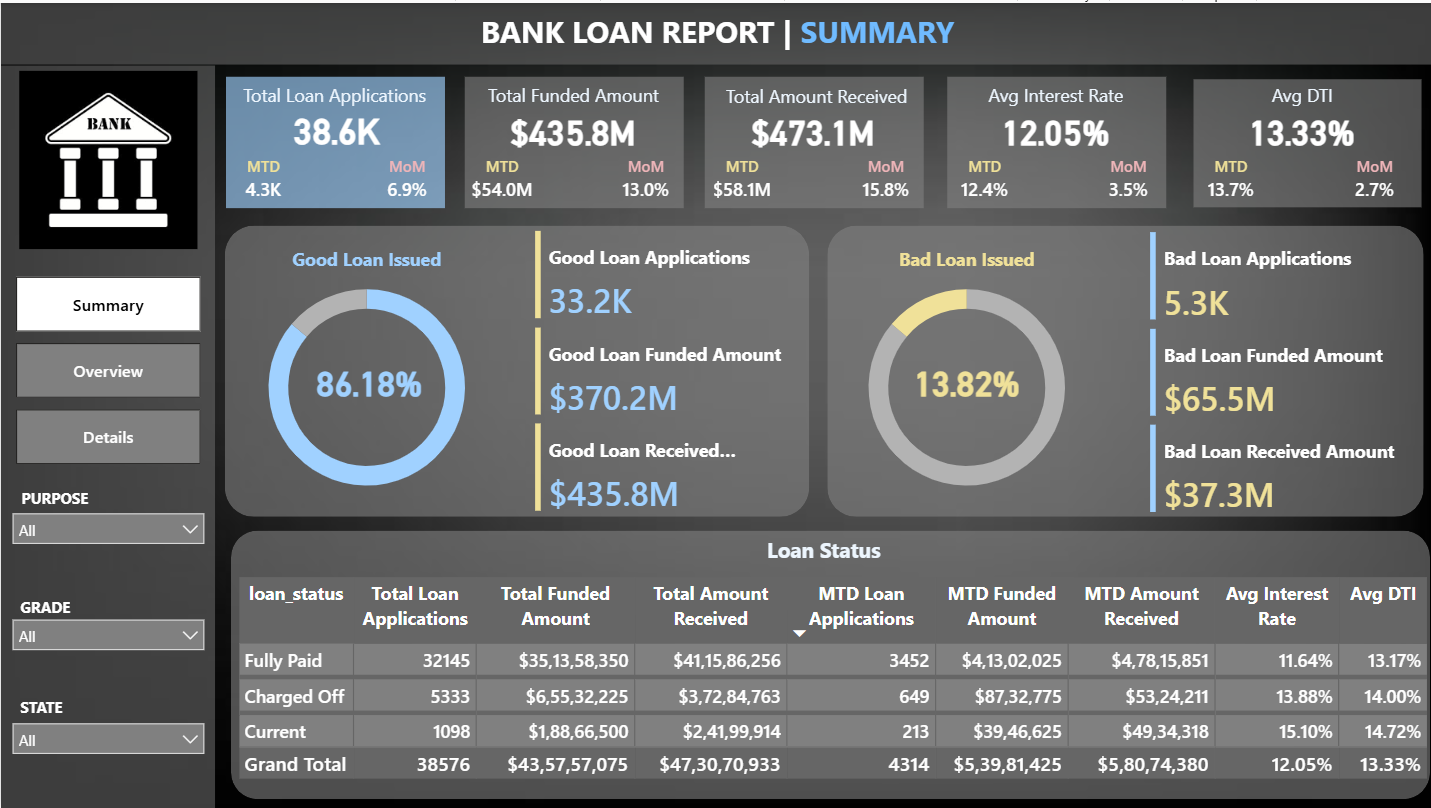

Layout of this report page (visuals, bound fields, positions):
{"tool":"powerbi","page":{"name":"Summary","canvas":[1280,720],"ordinal":0},"visuals":[{"type":"shape","box":[201,66.1,195.6,117.4],"z":0,"group":"g1"},{"type":"shape","box":[414.1,66.1,195.6,117.4],"z":0,"group":"g3"},{"type":"shape","box":[628.6,66.1,195.6,117.4],"z":0,"group":"g4"},{"type":"shape","box":[845.8,66.1,195.6,117.4],"z":0,"group":"g5"},{"type":"shape","box":[1065.2,68.7,203.7,114.7],"z":0,"group":"g6"},{"type":"shape","box":[199.7,198.3,522.1,260.4],"z":0},{"type":"shape","box":[0,0,1280.3,55],"z":1000},{"type":"card","fields":{"Values":["bank_loan_data.Total Loan Applications"]},"box":[202.6,91.6,195.6,43.2],"z":1000,"group":"g1"},{"type":"card","fields":{"Values":["bank_loan_data.Total Funded Amount"]},"box":[412.8,93.1,195.6,43.2],"z":1000,"group":"g3"},{"type":"card","fields":{"Values":["bank_loan_data.Total Amount Received"]},"box":[627.3,93.1,195.6,43.2],"z":1000,"group":"g4"},{"type":"card","fields":{"Values":["bank_loan_data.Avg Interest Rate"]},"box":[844.5,93.1,195.6,43.2],"z":1000,"group":"g5"},{"type":"card","fields":{"Values":["bank_loan_data.Avg DTI"]},"box":[1064.4,93.1,195.6,43.2],"z":1000,"group":"g6"},{"type":"textbox","box":[201,66.1,194.3,37.8],"z":2000,"group":"g1"},{"type":"textbox","box":[414.1,66.1,194.3,37.8],"z":2000,"group":"g3"},{"type":"textbox","box":[845.8,66.1,194.3,37.8],"z":2000,"group":"g5"},{"type":"textbox","box":[1065.7,66.1,194.3,37.8],"z":2000,"group":"g6"},{"type":"textbox","box":[631,67.3,195.6,35.1],"z":2000,"group":"g4"},{"type":"donutChart","fields":{"Category":["bank_loan_data.Good vs Bad Loan"],"Y":["bank_loan_data.Total Loan Applications"]},"box":[202.4,229.3,249.6,229.3],"z":2000},{"type":"card","title":"MTD","fields":{"Values":["bank_loan_data.MTD Loan Applications"]},"box":[202.3,136.3,64.8,47.2],"z":3000,"group":"g1"},{"type":"card","title":"MTD","fields":{"Values":["bank_loan_data.MTD Funded Amount"]},"box":[415.5,136.3,64.8,47.2],"z":3000,"group":"g3"},{"type":"card","title":"MTD","fields":{"Values":["bank_loan_data.MTD Amount Received"]},"box":[630,136.3,64.8,47.2],"z":3000,"group":"g4"},{"type":"card","title":"MTD","fields":{"Values":["bank_loan_data.MTD Avg Interest Rate"]},"box":[847.2,136.3,64.8,47.2],"z":3000,"group":"g5"},{"type":"card","title":"MTD","fields":{"Values":["bank_loan_data.MTD Avg DTI"]},"box":[1067.1,136.3,64.8,47.2],"z":3000,"group":"g6"},{"type":"textbox","box":[229.3,211.8,195.6,35.1],"z":3000},{"type":"shape","box":[0,55.3,191.6,665.1],"z":4000},{"type":"card","title":"MoM","fields":{"Values":["bank_loan_data.MoM Loan Applications"]},"box":[330.5,136.3,64.8,47.2],"z":4000,"group":"g1"},{"type":"card","title":"MoM","fields":{"Values":["bank_loan_data.MoM Funded Amount"]},"box":[543.7,136.3,64.8,47.2],"z":4000,"group":"g3"},{"type":"card","title":"MoM","fields":{"Values":["bank_loan_data.MoM Amount Received"]},"box":[758.2,136.3,64.8,47.2],"z":4000,"group":"g4"},{"type":"card","title":"MoM","fields":{"Values":["bank_loan_data.MoM Avg Interest Rate"]},"box":[975.4,136.3,64.8,47.2],"z":4000,"group":"g5"},{"type":"card","title":"MoM","fields":{"Values":["bank_loan_data.MoM Avg DTI"]},"box":[1195.3,136.3,64.8,47.2],"z":4000,"group":"g6"},{"type":"group","id":"g1","title":"Group 2","box":[201,66.1,197.2,117.4],"z":4005,"group":"g2"},{"type":"card","fields":{"Values":["bank_loan_data.Good Loan %"]},"box":[263.1,317,130.9,43.2],"z":5000},{"type":"textbox","box":[385.8,2.7,507.3,47.2],"z":6000},{"type":"group","id":"g2","title":"Group 1","box":[201,66.1,197,117.4],"z":7000},{"type":"group","id":"g3","title":"Group 2","box":[412.8,66.1,197,117.4],"z":8000},{"type":"group","id":"g4","title":"Group 2","box":[627.3,66.1,199.7,117.4],"z":9000},{"type":"group","id":"g5","title":"Group 2","box":[844.5,66.1,197,117.4],"z":10000},{"type":"group","id":"g6","title":"Group 2","box":[1064.4,66.1,204.5,117.4],"z":11000},{"type":"shape","box":[737.9,198.3,532.9,260.4],"z":12000},{"type":"cardVisual","fields":{"Data":["bank_loan_data.Good Loan Applications","bank_loan_data.Good Loan Funded Amount","bank_loan_data.Good Loan Received Amount"]},"box":[472.2,198.3,249.6,260.4],"z":13000},{"type":"donutChart","fields":{"Category":["bank_loan_data.Good vs Bad Loan"],"Y":["bank_loan_data.Total Loan Applications"]},"box":[737.9,229.3,249.6,229.3],"z":14000},{"type":"card","fields":{"Values":["bank_loan_data.Bad Loan %"]},"box":[797.3,317,130.9,43.2],"z":15000},{"type":"cardVisual","fields":{"Data":["bank_loan_data.Bad Loan Applications","bank_loan_data.Bad Loan Funded Amount","bank_loan_data.Bad Loan Received Amount"]},"box":[1021.3,199.7,249.6,260.4],"z":16000},{"type":"textbox","box":[764.9,211.8,195.6,35.1],"z":17000},{"type":"shape","box":[205.1,470.8,1071.2,240.1],"z":18000},{"type":"tableEx","fields":{"Values":["bank_loan_data.loan_status","bank_loan_data.Total Loan Applications","bank_loan_data.Total Funded Amount","bank_loan_data.Total Amount Received","bank_loan_data.MTD Loan Applications","bank_loan_data.MTD Funded Amount","bank_loan_data.MTD Amount Received","bank_loan_data.Avg Interest Rate","bank_loan_data.Avg DTI"]},"box":[206.4,508.6,1073.9,211.8],"z":19000},{"type":"textbox","box":[643.5,470.8,183.5,37.8],"z":20000},{"type":"slicer","fields":{"Values":["bank_loan_data.address_state"]},"box":[0,632.7,191.6,49.9],"z":21000},{"type":"textbox","box":[12.1,615.2,124.1,33.7],"z":22000},{"type":"slicer","fields":{"Values":["bank_loan_data.grade"]},"box":[0,541,191.6,49.9],"z":23000},{"type":"textbox","box":[13.5,429,122.8,29.7],"z":24000},{"type":"textbox","box":[12.1,526.1,124.1,29.7],"z":25000},{"type":"slicer","fields":{"Values":["bank_loan_data.Good vs Bad Loan"]},"box":[0,445.2,191.6,49.9],"z":26000},{"type":"pageNavigator","box":[13.5,244.2,165.9,170],"z":26001},{"type":"image","box":[6.7,55.3,178.1,168.6],"z":26002}]}

Visuals, with their boxes in screenshot pixels (x1, y1, x2, y2), scaled from the page's 1280x720 canvas onto the 1431x808 screenshot:
shape: (x1=225, y1=74, x2=443, y2=206)
shape: (x1=463, y1=74, x2=682, y2=206)
shape: (x1=703, y1=74, x2=921, y2=206)
shape: (x1=946, y1=74, x2=1164, y2=206)
shape: (x1=1191, y1=77, x2=1419, y2=206)
shape: (x1=223, y1=223, x2=807, y2=515)
shape: (x1=0, y1=0, x2=1430, y2=62)
card - bank_loan_data.Total Loan Applications: (x1=227, y1=103, x2=445, y2=151)
card - bank_loan_data.Total Funded Amount: (x1=461, y1=104, x2=680, y2=153)
card - bank_loan_data.Total Amount Received: (x1=701, y1=104, x2=920, y2=153)
card - bank_loan_data.Avg Interest Rate: (x1=944, y1=104, x2=1163, y2=153)
card - bank_loan_data.Avg DTI: (x1=1190, y1=104, x2=1409, y2=153)
textbox: (x1=225, y1=74, x2=442, y2=117)
textbox: (x1=463, y1=74, x2=680, y2=117)
textbox: (x1=946, y1=74, x2=1163, y2=117)
textbox: (x1=1191, y1=74, x2=1409, y2=117)
textbox: (x1=705, y1=76, x2=924, y2=115)
donutChart - bank_loan_data.Good vs Bad Loan x bank_loan_data.Total Loan Applications: (x1=226, y1=257, x2=505, y2=515)
"MTD" card: (x1=226, y1=153, x2=299, y2=206)
"MTD" card: (x1=465, y1=153, x2=537, y2=206)
"MTD" card: (x1=704, y1=153, x2=777, y2=206)
"MTD" card: (x1=947, y1=153, x2=1020, y2=206)
"MTD" card: (x1=1193, y1=153, x2=1265, y2=206)
textbox: (x1=256, y1=238, x2=475, y2=277)
shape: (x1=0, y1=62, x2=214, y2=807)
"MoM" card: (x1=369, y1=153, x2=442, y2=206)
"MoM" card: (x1=608, y1=153, x2=680, y2=206)
"MoM" card: (x1=848, y1=153, x2=920, y2=206)
"MoM" card: (x1=1090, y1=153, x2=1163, y2=206)
"MoM" card: (x1=1336, y1=153, x2=1409, y2=206)
"Group 2" group: (x1=225, y1=74, x2=445, y2=206)
card - bank_loan_data.Good Loan %: (x1=294, y1=356, x2=440, y2=404)
textbox: (x1=431, y1=3, x2=998, y2=56)
"Group 1" group: (x1=225, y1=74, x2=445, y2=206)
"Group 2" group: (x1=461, y1=74, x2=682, y2=206)
"Group 2" group: (x1=701, y1=74, x2=925, y2=206)
"Group 2" group: (x1=944, y1=74, x2=1164, y2=206)
"Group 2" group: (x1=1190, y1=74, x2=1419, y2=206)
shape: (x1=825, y1=223, x2=1421, y2=515)
cardVisual - bank_loan_data.Good Loan Applications x bank_loan_data.Good Loan Funded Amount: (x1=528, y1=223, x2=807, y2=515)
donutChart - bank_loan_data.Good vs Bad Loan x bank_loan_data.Total Loan Applications: (x1=825, y1=257, x2=1104, y2=515)
card - bank_loan_data.Bad Loan %: (x1=891, y1=356, x2=1038, y2=404)
cardVisual - bank_loan_data.Bad Loan Applications x bank_loan_data.Bad Loan Funded Amount: (x1=1142, y1=224, x2=1421, y2=516)
textbox: (x1=855, y1=238, x2=1074, y2=277)
shape: (x1=229, y1=528, x2=1427, y2=798)
tableEx - bank_loan_data.loan_status x bank_loan_data.Total Loan Applications: (x1=231, y1=571, x2=1430, y2=807)
textbox: (x1=719, y1=528, x2=925, y2=571)
slicer - bank_loan_data.address_state: (x1=0, y1=710, x2=214, y2=766)
textbox: (x1=14, y1=690, x2=152, y2=728)
slicer - bank_loan_data.grade: (x1=0, y1=607, x2=214, y2=663)
textbox: (x1=15, y1=481, x2=152, y2=515)
textbox: (x1=14, y1=590, x2=152, y2=624)
slicer - bank_loan_data.Good vs Bad Loan: (x1=0, y1=500, x2=214, y2=556)
pageNavigator: (x1=15, y1=274, x2=201, y2=465)
image: (x1=7, y1=62, x2=207, y2=251)
